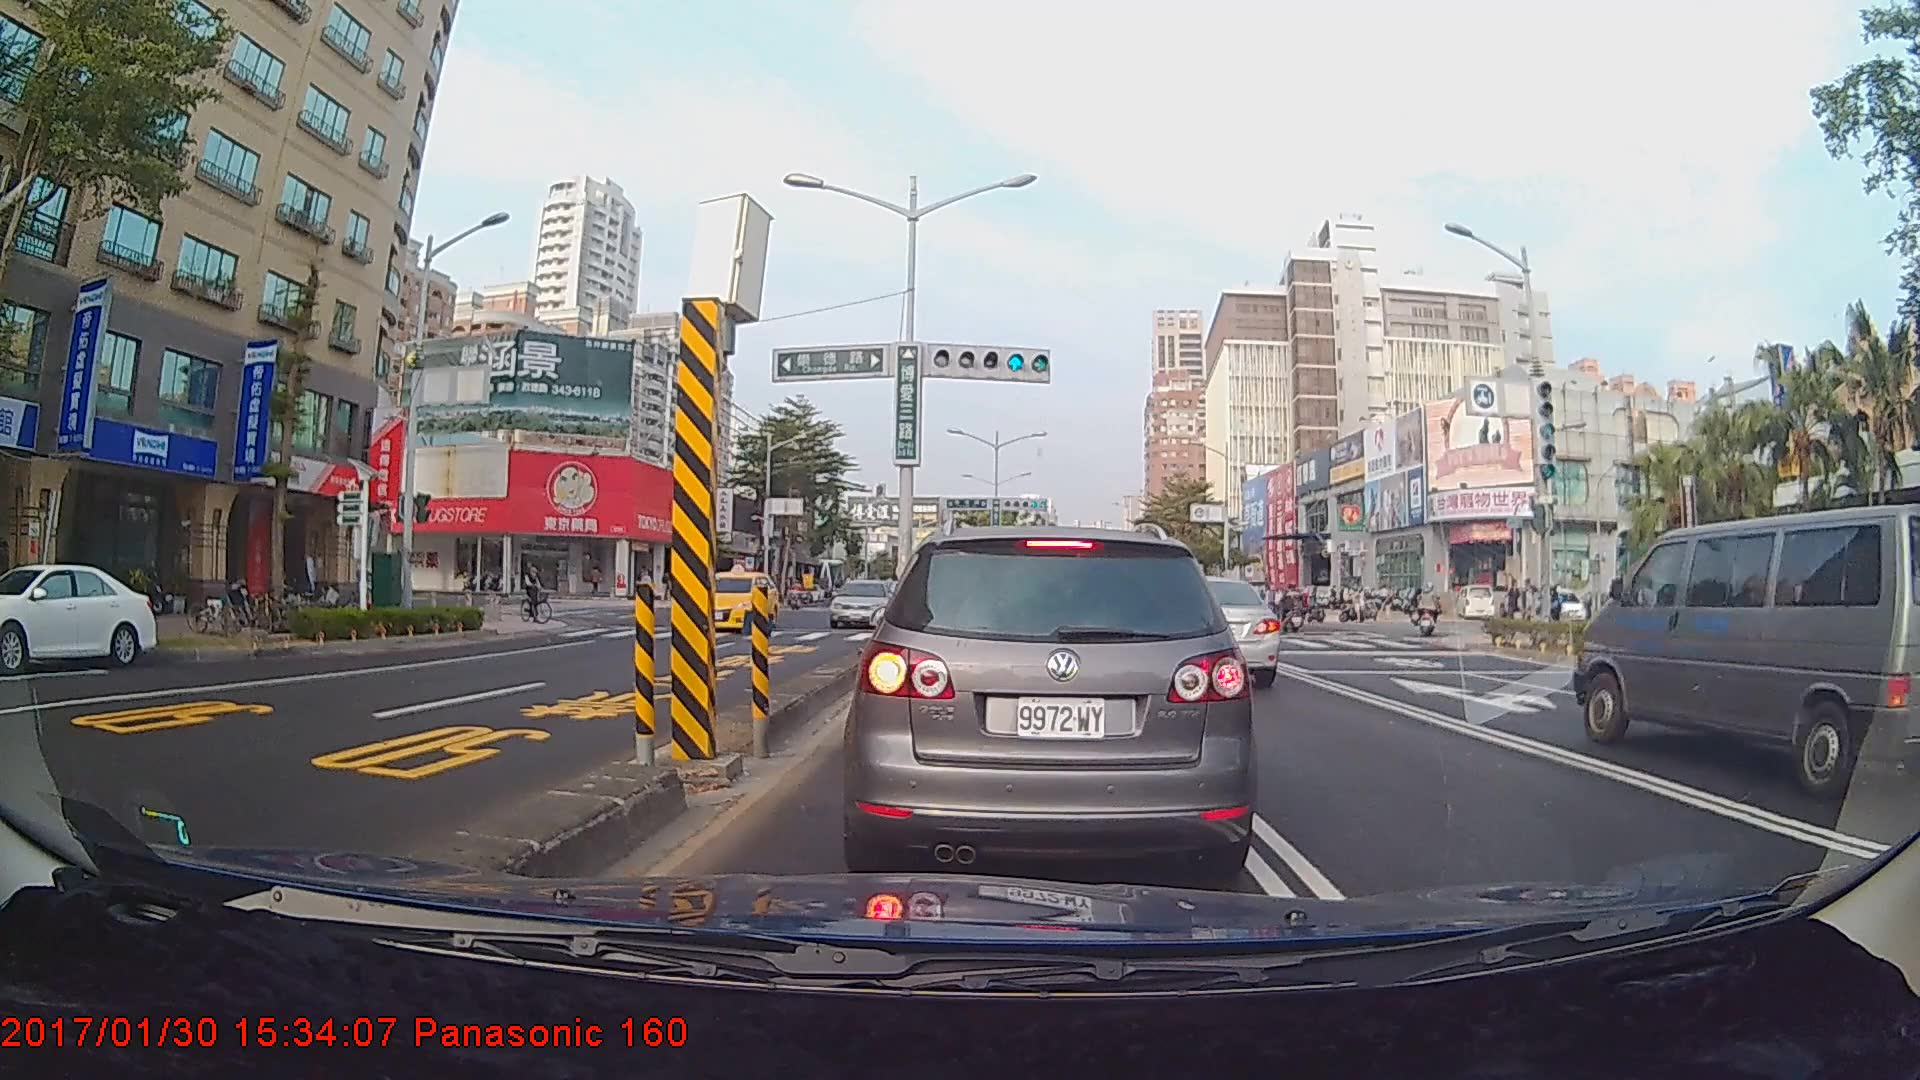rider: (518, 559, 561, 629), (1271, 580, 1316, 639), (1414, 582, 1442, 640)
vehicle: (853, 524, 1244, 879), (1571, 500, 1920, 802), (1113, 576, 1280, 691), (0, 561, 159, 671), (683, 567, 779, 633), (828, 577, 900, 627)
